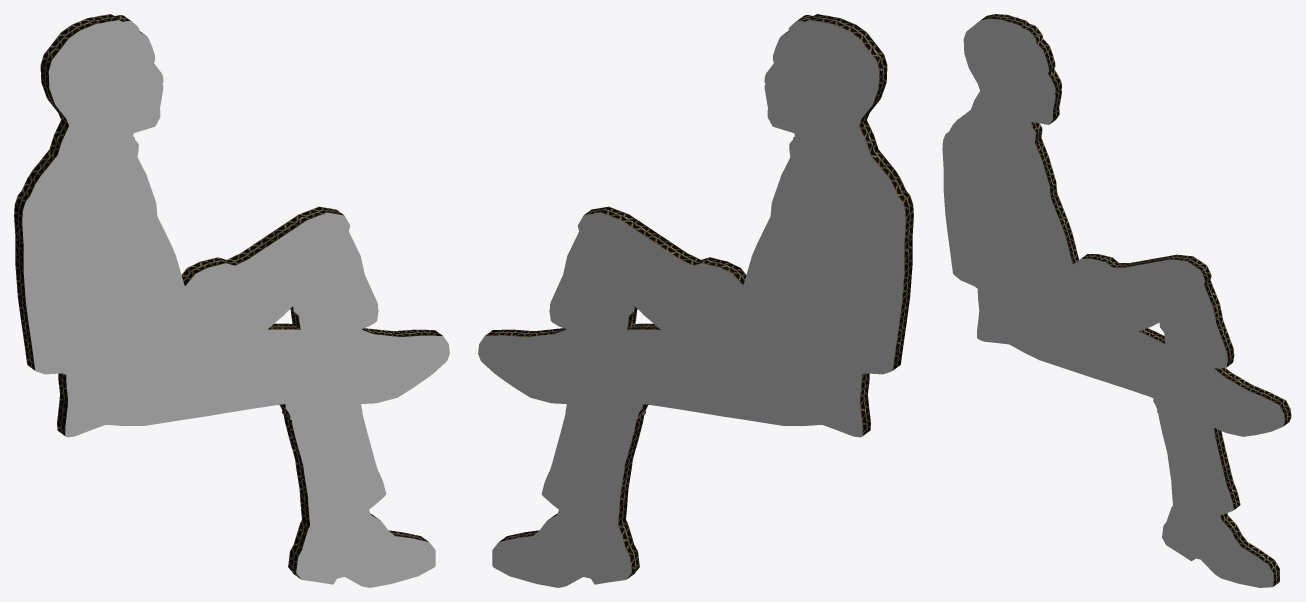
File: NPC_Aplicant_Well_Dressed_Sitting_upright_Male.FBX
3 renders of one model, left to right at view 1: azimuth 30°, elevation 25°; view 2: azimuth 150°, elevation 25°; view 3: azimuth 330°, elevation 25°, orthographic. The views are drawn at different scales.
Parts seen in each view (by area): view 1: NPC_Aplicant_Well_Dressed_Sitting_upright_Male; view 2: NPC_Aplicant_Well_Dressed_Sitting_upright_Male; view 3: NPC_Aplicant_Well_Dressed_Sitting_upright_Male.
Boxes of the visible parts, <box> form: NPC_Aplicant_Well_Dressed_Sitting_upright_Male: <box>14,14,449,587</box>; NPC_Aplicant_Well_Dressed_Sitting_upright_Male: <box>478,14,913,587</box>; NPC_Aplicant_Well_Dressed_Sitting_upright_Male: <box>942,14,1291,587</box>.
Bounding box in the file's own units: 37.73 × 53.28 × 1.24.
